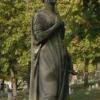Statue: (22, 4, 75, 100)
